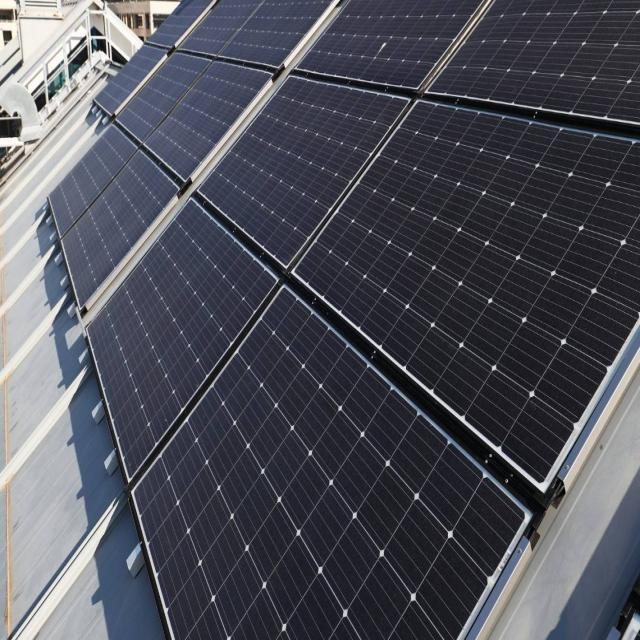Non Defective: (135, 287, 524, 638), (295, 102, 640, 483), (88, 200, 275, 478), (200, 78, 405, 265), (432, 0, 640, 122), (61, 151, 178, 307), (300, 0, 479, 89), (146, 62, 270, 180), (50, 125, 136, 238), (118, 53, 209, 142), (221, 0, 330, 69), (95, 44, 166, 116), (180, 0, 260, 56), (148, 0, 211, 49)
